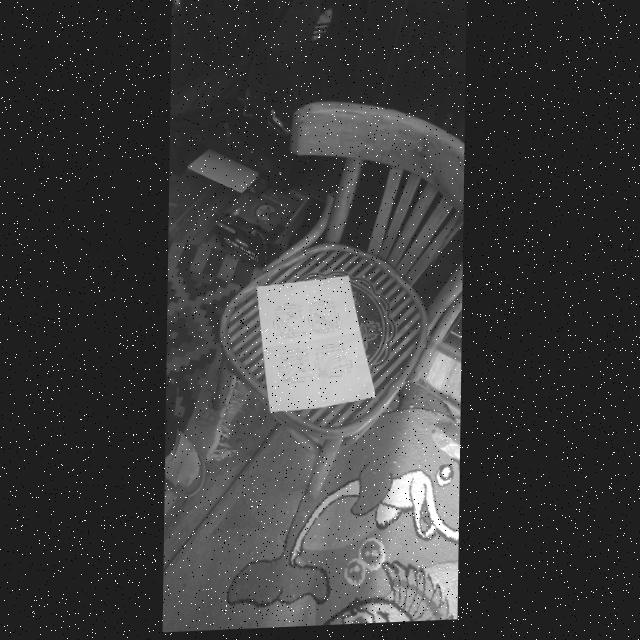document: (258, 276, 376, 412)
